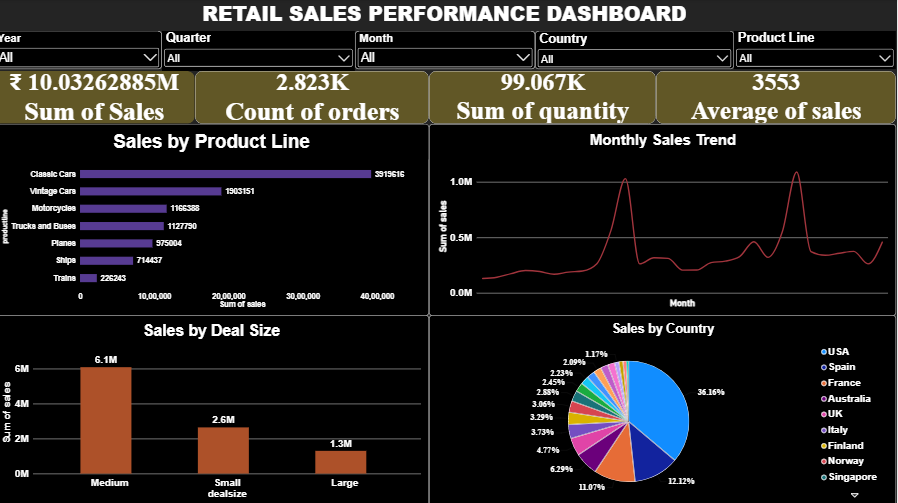

The dashboard page shown, as its layout file describes it:
{"tool":"powerbi","page":{"name":"Page 1","canvas":[1920,1080],"ordinal":0},"visuals":[{"type":"cardVisual","fields":{"Data":["public sales_data_sample.Sum of Sales"]},"box":[0,153.1,429.4,112.7],"z":0},{"type":"cardVisual","fields":{"Data":["CountNonNull(public sales_data_sample.ordernumber)"]},"box":[429.4,153.1,497.5,112.7],"z":1000},{"type":"cardVisual","fields":{"Data":["Sum(public sales_data_sample.quantityordered)"]},"box":[926.9,153.1,482.6,112.7],"z":2000},{"type":"cardVisual","fields":{"Data":["Avg(public sales_data_sample.sales)"]},"box":[1409.5,153.1,510.2,112.7],"z":3000},{"type":"textbox","box":[0,0,1919.8,68],"z":4000},{"type":"clusteredBarChart","title":"Sales by Product Line","fields":{"Category":["public sales_data_sample.productline"],"Y":["Sum(public sales_data_sample.sales)"]},"box":[0,265.7,926.9,408.2],"z":5000},{"type":"lineChart","title":"Monthly Sales Trend","fields":{"Category":["public sales_data_sample.orderdate.Variation.Date Hierarchy.Year","public sales_data_sample.orderdate.Variation.Date Hierarchy.Month"],"Y":["Sum(public sales_data_sample.sales)"]},"box":[926.9,265.7,992.8,408.2],"z":6000},{"type":"clusteredColumnChart","title":"Sales by Deal Size","fields":{"Category":["public sales_data_sample.dealsize"],"Y":["Sum(public sales_data_sample.sales)"]},"box":[0,671.8,926.9,408.2],"z":7000},{"type":"slicer","fields":{"Values":["public sales_data_sample.year_id"]},"box":[0,68,359.3,80.8],"z":8000},{"type":"slicer","fields":{"Values":["public sales_data_sample.country"]},"box":[1152.3,68,423.1,80.8],"z":9000},{"type":"slicer","fields":{"Values":["public sales_data_sample.productline"]},"box":[1575.4,68,344.4,80.8],"z":10000},{"type":"slicer","fields":{"Values":["public sales_data_sample.orderdate.Variation.Date Hierarchy.Month"]},"box":[769.6,68,382.7,80.8],"z":11000},{"type":"slicer","fields":{"Values":["public sales_data_sample.orderdate.Variation.Date Hierarchy.Quarter"]},"box":[359.3,68,410.3,85],"z":12000},{"type":"pieChart","title":"Sales by Country","fields":{"Category":["public sales_data_sample.country"],"Y":["Sum(public sales_data_sample.sales)"]},"box":[926.9,671.8,992.8,408.2],"z":13000}]}

Visuals, with their boxes in screenshot pixels (x1, y1, x2, y2), scaled from the page's 1920x1080 canvas onto the 898x503 screenshot:
cardVisual - public sales_data_sample.Sum of Sales: left=0, top=71, right=201, bottom=124
cardVisual - CountNonNull(public sales_data_sample.ordernumber): left=201, top=71, right=434, bottom=124
cardVisual - Sum(public sales_data_sample.quantityordered): left=434, top=71, right=659, bottom=124
cardVisual - Avg(public sales_data_sample.sales): left=659, top=71, right=897, bottom=124
textbox: left=0, top=0, right=897, bottom=32
"Sales by Product Line" clusteredBarChart: left=0, top=124, right=434, bottom=314
"Monthly Sales Trend" lineChart: left=434, top=124, right=897, bottom=314
"Sales by Deal Size" clusteredColumnChart: left=0, top=313, right=434, bottom=502
slicer - public sales_data_sample.year_id: left=0, top=32, right=168, bottom=69
slicer - public sales_data_sample.country: left=539, top=32, right=737, bottom=69
slicer - public sales_data_sample.productline: left=737, top=32, right=897, bottom=69
slicer - public sales_data_sample.orderdate.Variation.Date Hierarchy.Month: left=360, top=32, right=539, bottom=69
slicer - public sales_data_sample.orderdate.Variation.Date Hierarchy.Quarter: left=168, top=32, right=360, bottom=71
"Sales by Country" pieChart: left=434, top=313, right=897, bottom=502
